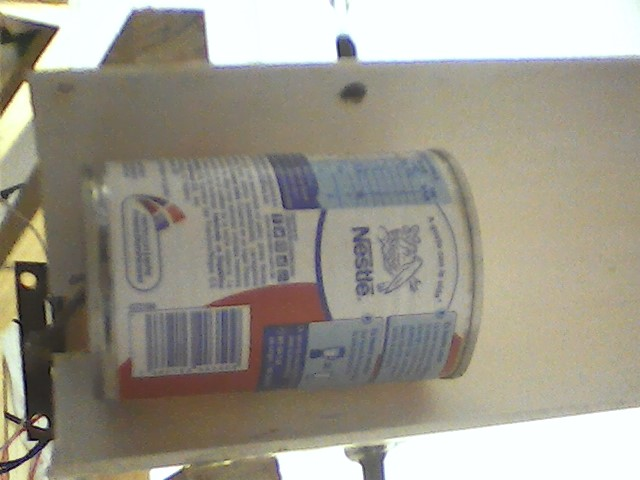lata: (81, 148, 484, 402)
